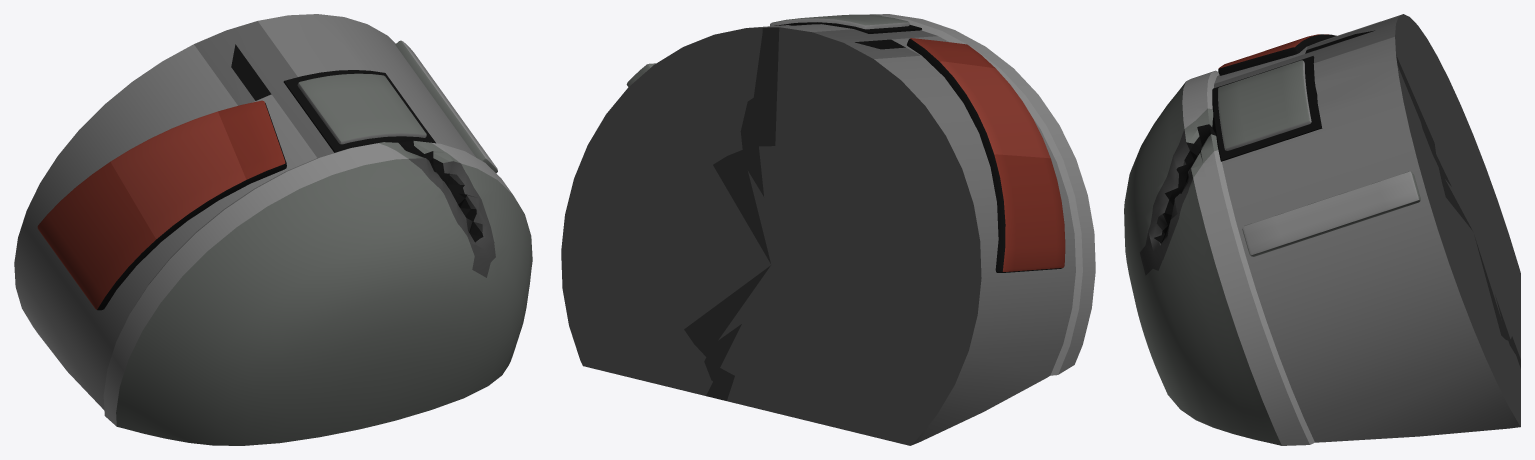
The model's file is red_tower_dmg_base.glb.
3 views of the same model, side by side, from view 1: azimuth 30°, elevation 25°; view 2: azimuth 150°, elevation 25°; view 3: azimuth 270°, elevation 25° (orthographic). The views are drawn at different scales.
Parts seen in each view (by area): view 1: red_tower_dmg_base; view 2: red_tower_dmg_base; view 3: red_tower_dmg_base.
Part boxes in pixels (x1,y1,x2,y2): red_tower_dmg_base: [14, 14, 532, 445]; red_tower_dmg_base: [561, 14, 1095, 445]; red_tower_dmg_base: [1124, 14, 1520, 445].
Size of the model in its own units: 18.44 by 13.61 by 15.62.
